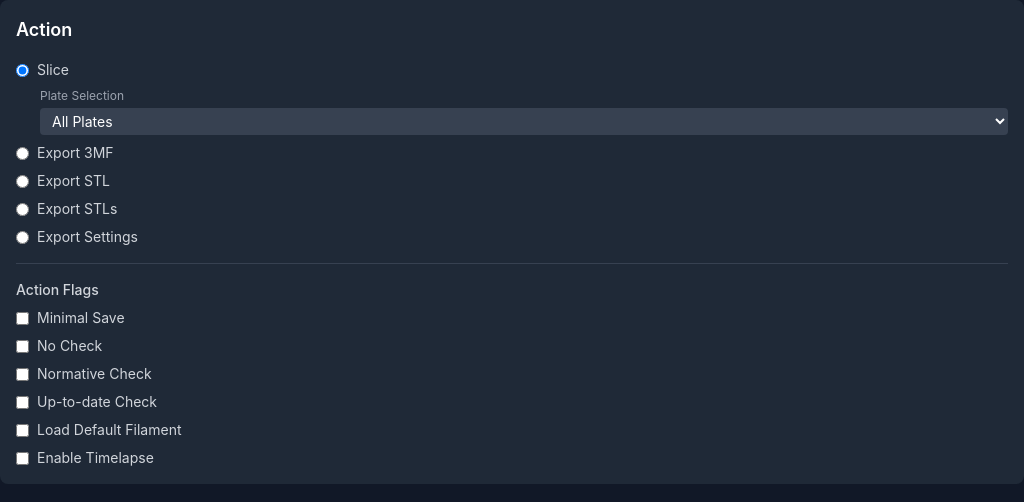
Scenario: ActionSelector › Conditional UI: Plate Selector (Requirement 5.2) › hides plate selector when Export Settings is selected
The width and height of the screenshot is (1024, 502).
// Select Export Settings
Click the radio button labelled "Export Settings" at (22, 237), box [16, 230, 29, 244]
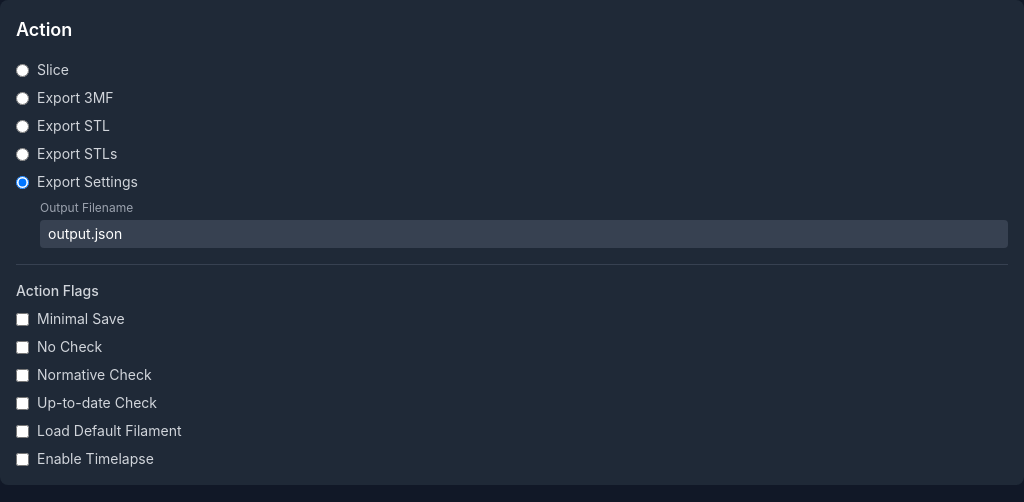
expect the text "Plate Selection" is gone: met
